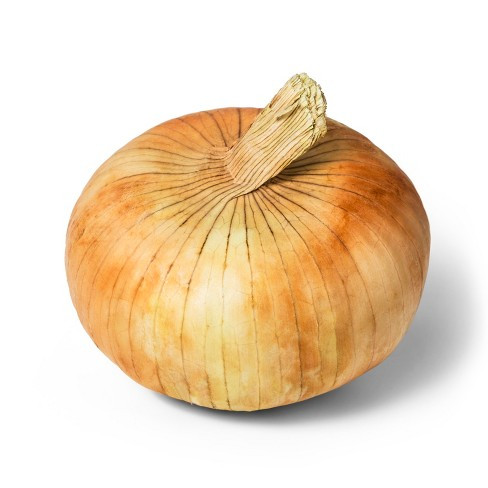onion: (60, 70, 434, 416)
